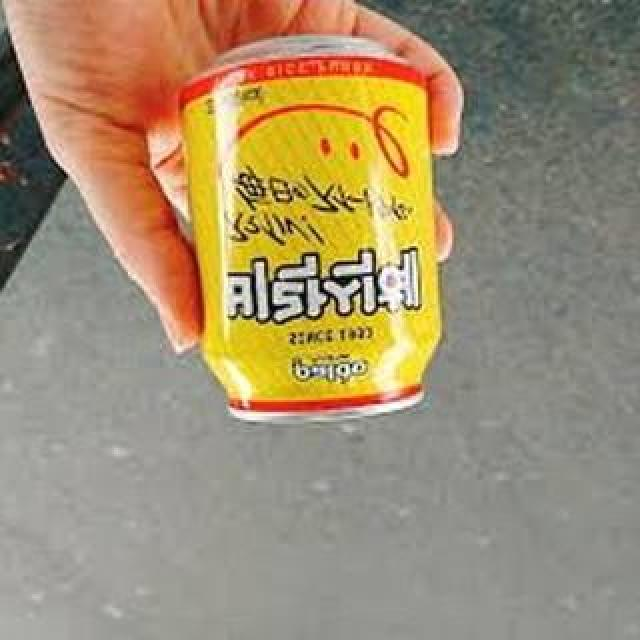Can: (187, 34, 439, 434)
